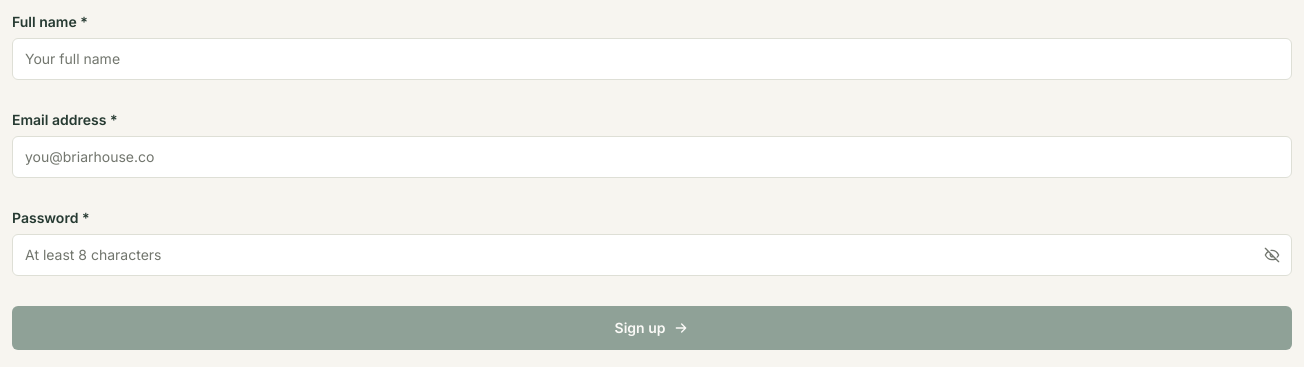
SignupForm › shows each validation message from a 400
Type "Sam Lee" into the field labelled "Full name" at [652, 59], box [12,38,1292,80]
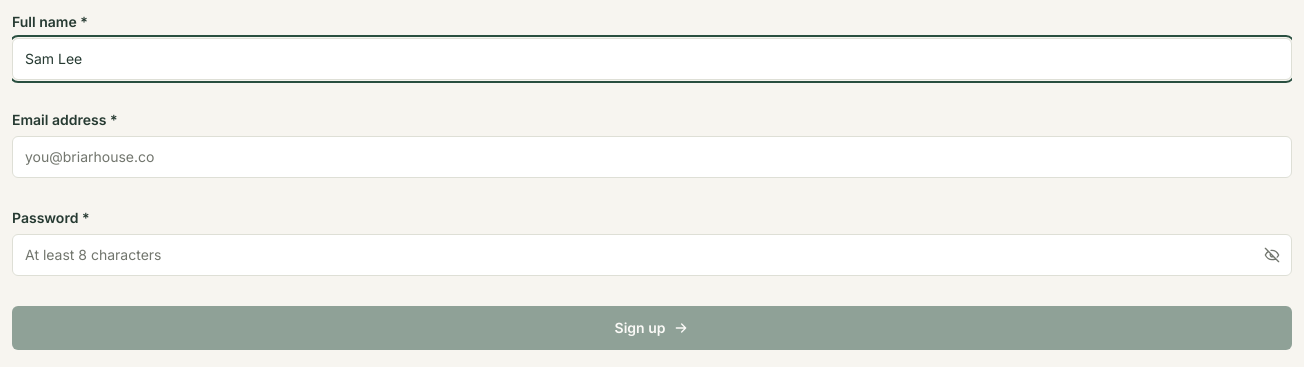
Type "sam@hotel.com" into the field labelled "Email address" at [652, 157], box [12,136,1292,178]
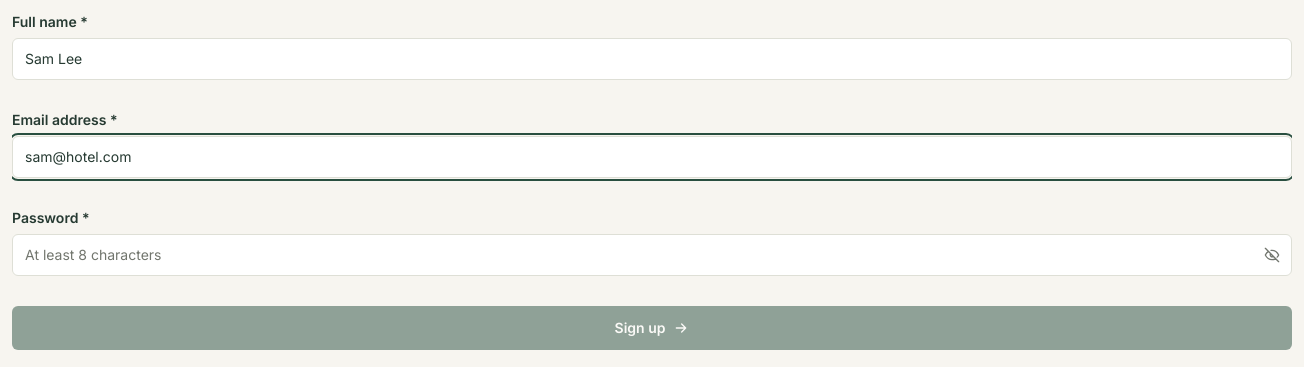
Type "at-least-8" into the password field labelled "Password" at [652, 255], box [12,234,1292,276]
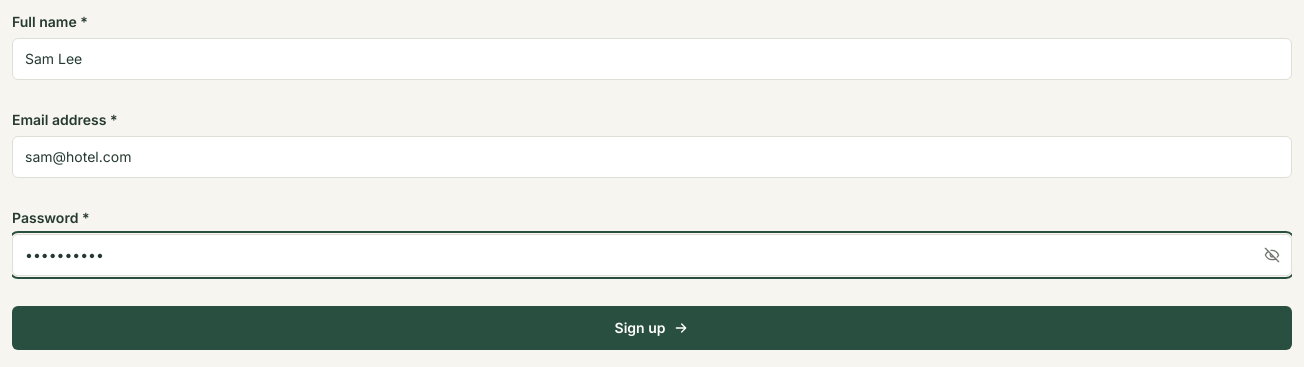
Click the button "Sign up" at [652, 328], box [12,306,1292,350]
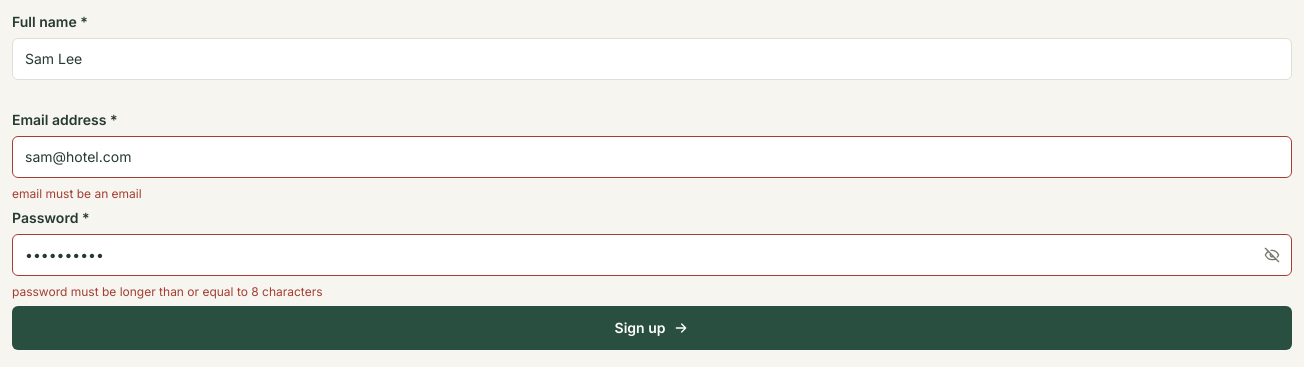
Result: the text "email must be an email" is shown at [12,186,142,201]
Result: the text "password must be longer than or equal to 8 characters" is shown at [12,284,322,299]
